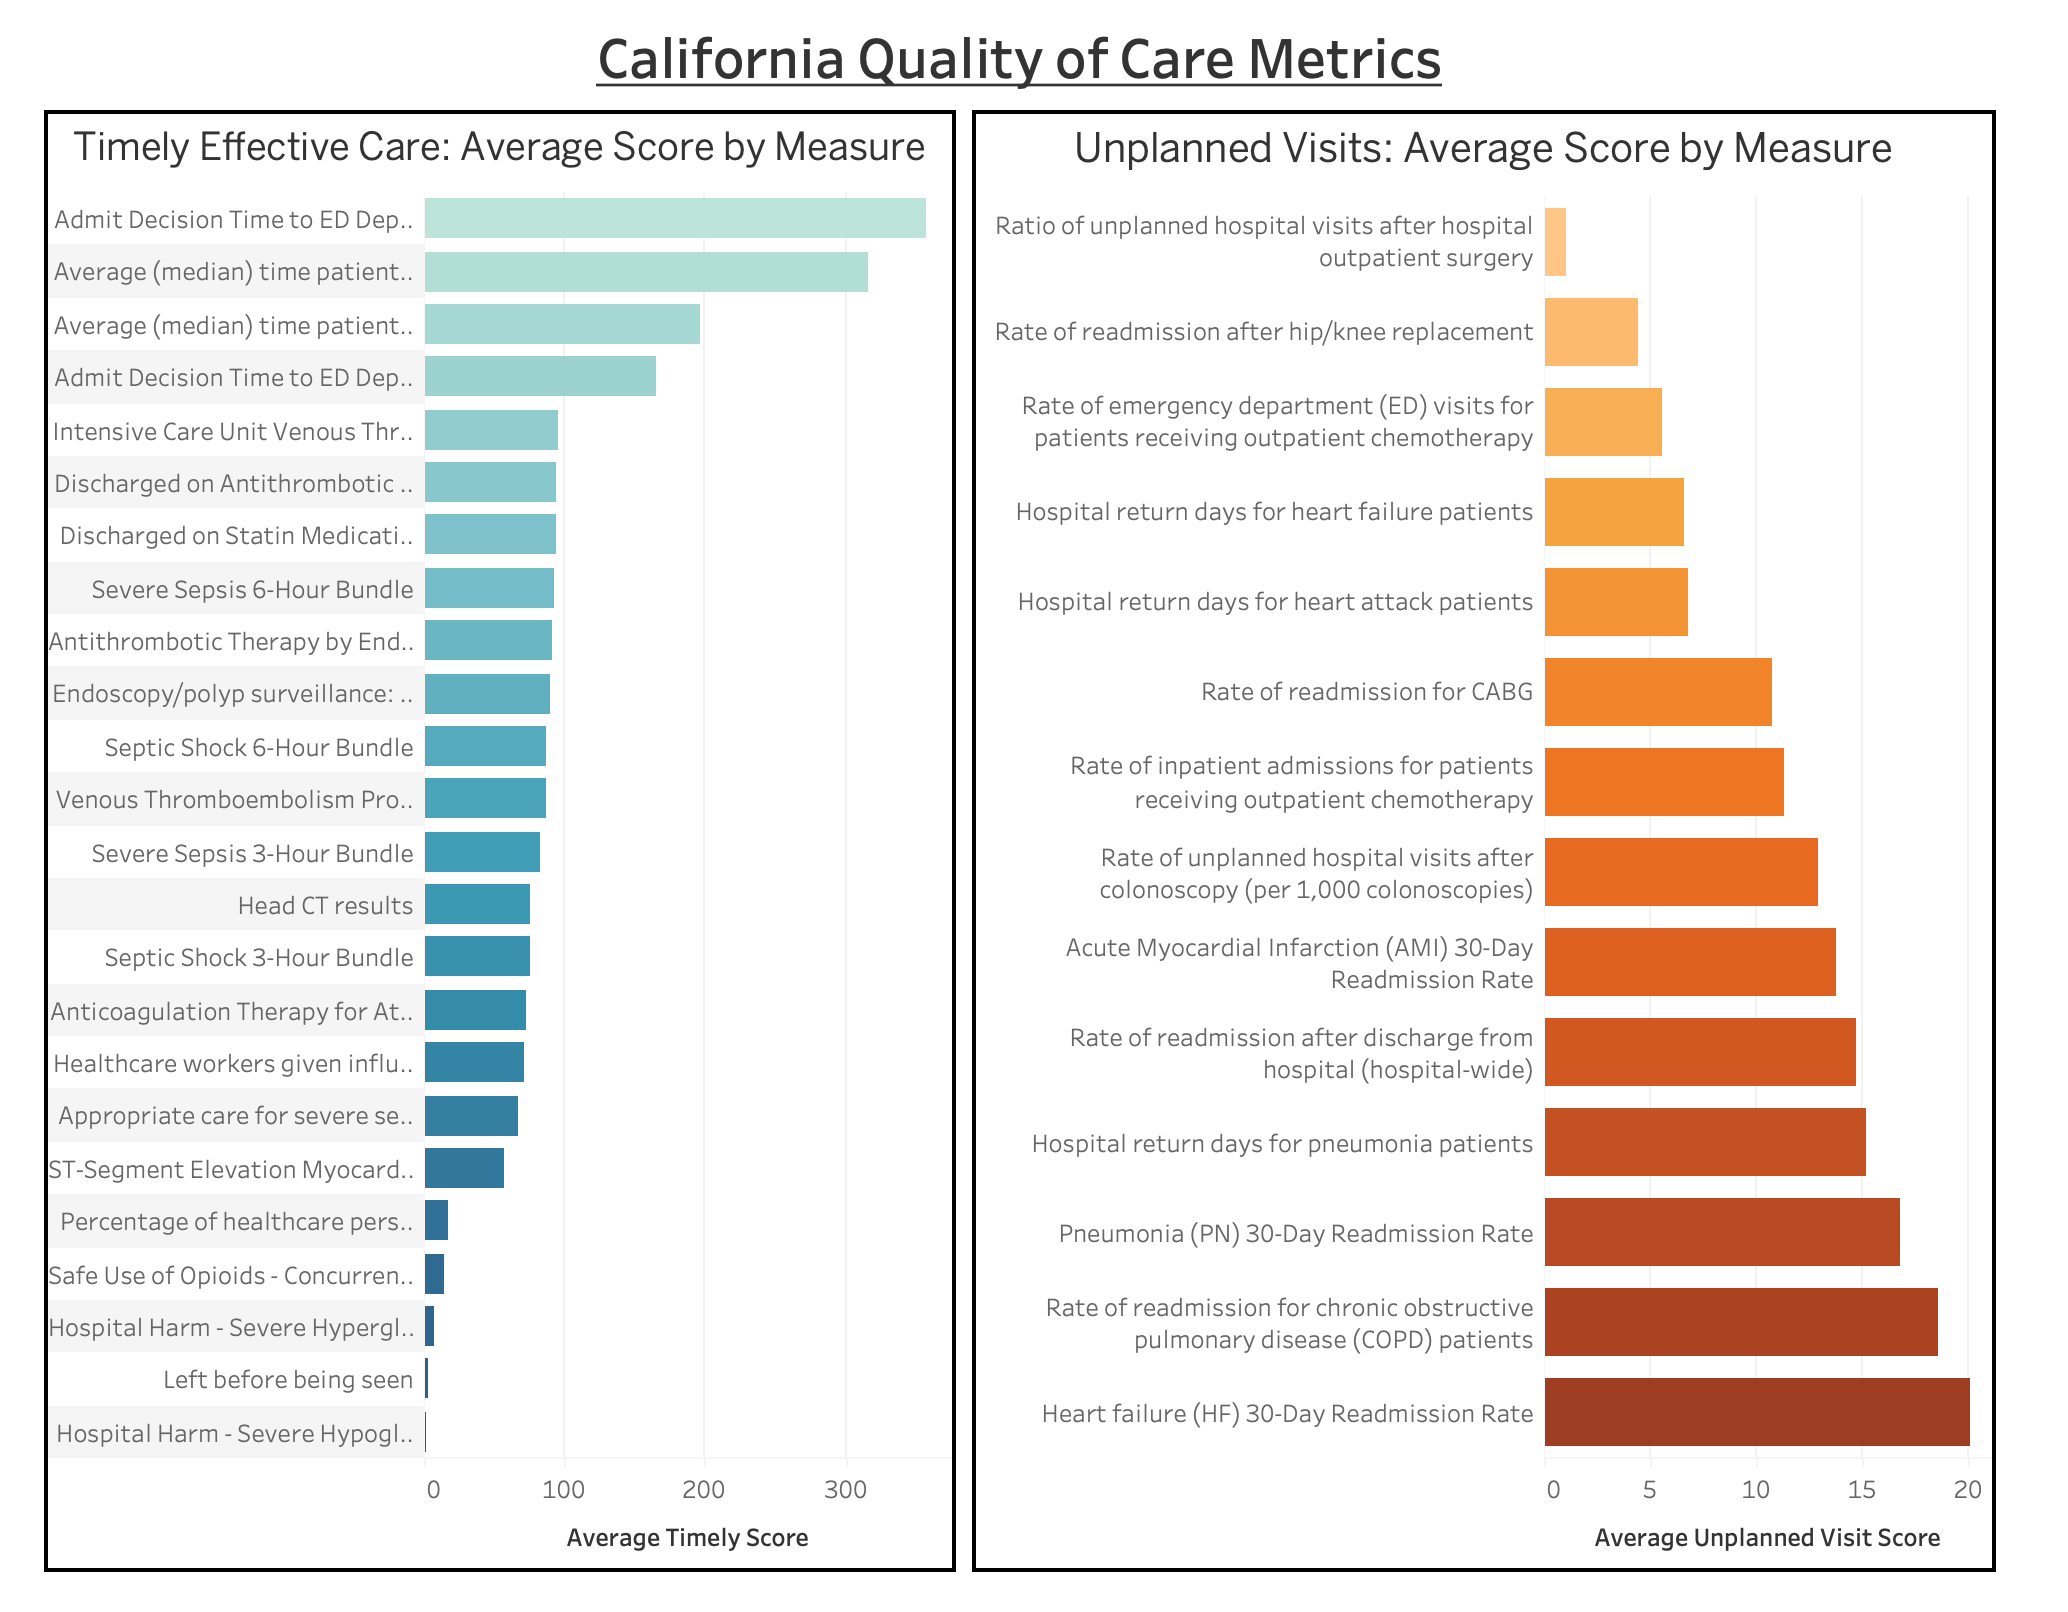

This screenshot's page, from the dashboard's own definition file:
{"tool":"tableau","page":{"name":"California Quality of Care Metrics","canvas":[1000,800],"ordinal":1},"visuals":[{"type":"title","box":[8,8,984,45]},{"type":"worksheet","title":"Average Timely Score based on Measure","mark":"Automatic","rows":["measure_name (timely_effective_care)"],"cols":["Calculation_774830280528887818"],"box":[8,53,464,739]},{"type":"worksheet","title":"Unplanned Visit Scores by Measure","mark":"Automatic","rows":["measure_name (unplanned_visits)"],"cols":["Calculation_774830280528617481"],"box":[472,53,520,739]}]}

Visuals, with their boxes in screenshot pixels (x1, y1, x2, y2), scaled from the page's 1000x800 canvas onto the 2068x1612 screenshot:
title: <box>17,16,2051,107</box>
"Average Timely Score based on Measure" worksheet: <box>17,107,976,1596</box>
"Unplanned Visit Scores by Measure" worksheet: <box>976,107,2051,1596</box>
